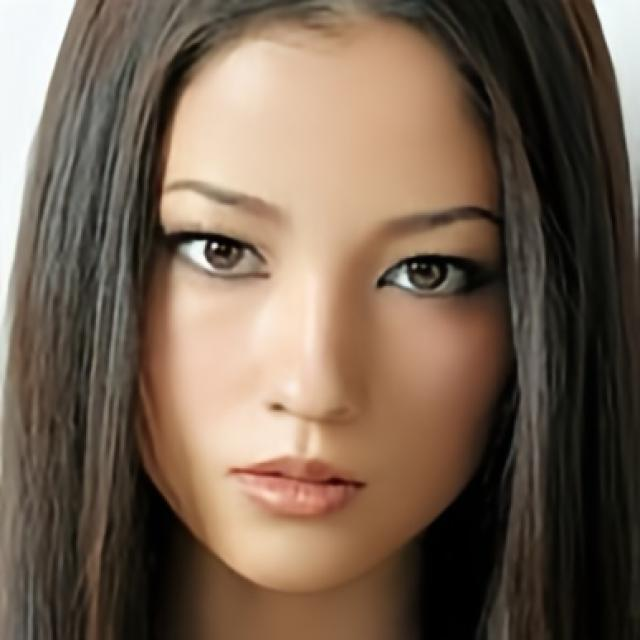neutral: (140, 1, 516, 592)
